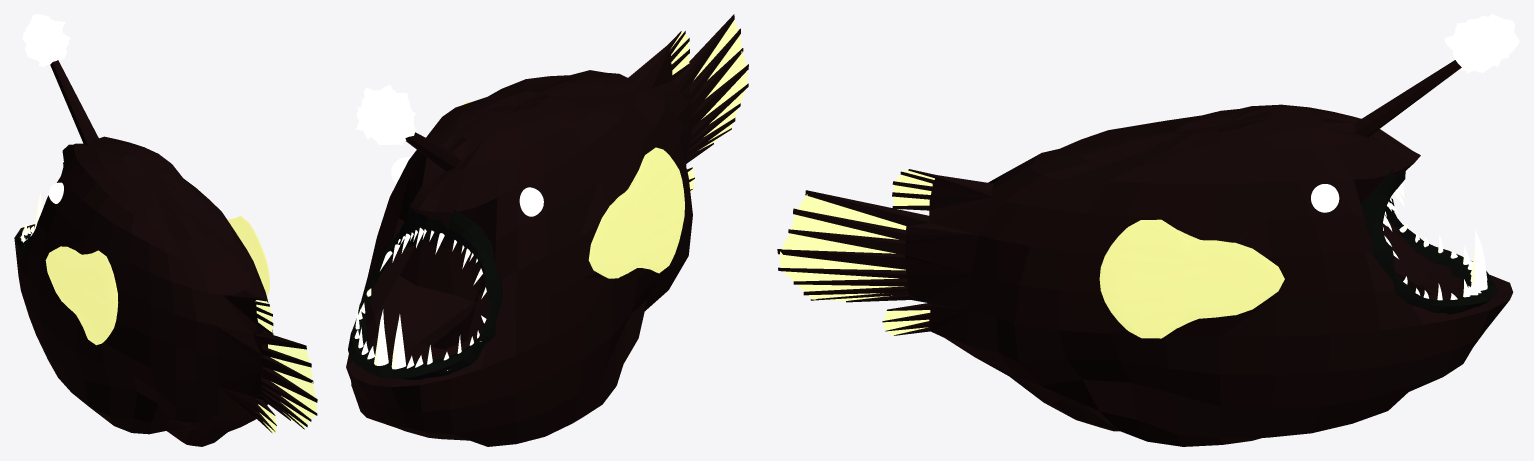
3 views of the same model, side by side, from view 1: azimuth 30°, elevation 25°; view 2: azimuth 150°, elevation 25°; view 3: azimuth 270°, elevation 25° (orthographic). The views are drawn at different scales.
Parts seen in each view (by area): view 1: Sphere, Sphere.003, Light, Cube, Sphere.001, Torus; view 2: Sphere, Sphere.003, Torus, Light, Cube, Eyes.002, Cone.001, Cone.000; view 3: Sphere, Sphere.001, Cube, Torus, Light, Cube.001, Cube.002.
Boxes of the visible parts, left/top/right/bottom form: Sphere: left=14, top=60, right=317, bottom=446; Sphere.003: left=45, top=246, right=118, bottom=345; Light: left=22, top=14, right=70, bottom=67; Cube: left=268, top=344, right=316, bottom=427; Sphere.001: left=227, top=216, right=269, bottom=296; Torus: left=15, top=161, right=64, bottom=256; Sphere: left=346, top=14, right=748, bottom=446; Sphere.003: left=588, top=147, right=684, bottom=278; Torus: left=348, top=199, right=502, bottom=379; Light: left=356, top=85, right=415, bottom=145; Cube: left=694, top=20, right=747, bottom=149; Eyes.002: left=519, top=187, right=543, bottom=216; Cone.001: left=391, top=314, right=406, bottom=369; Cone.000: left=374, top=309, right=388, bottom=365; Sphere: left=777, top=60, right=1513, bottom=446; Sphere.001: left=1099, top=219, right=1284, bottom=338; Cube: left=780, top=194, right=906, bottom=300; Torus: left=1360, top=168, right=1497, bottom=314; Light: left=1444, top=14, right=1519, bottom=73; Cube.001: left=893, top=170, right=934, bottom=205; Cube.002: left=883, top=310, right=930, bottom=335.
Size of what is drawn, in the model's own units: 0.8427 by 1.57 by 2.55.
